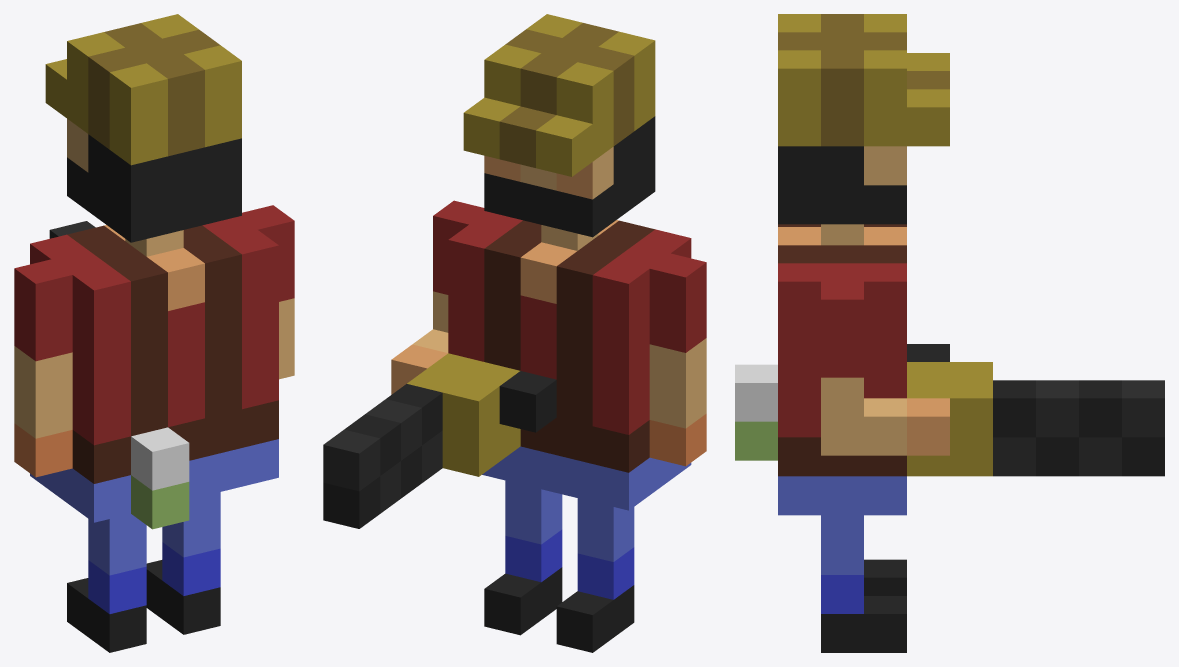
Rendered from lumberjack_3.fbx.
3 views of the same model, side by side, from view 1: azimuth 30°, elevation 25°; view 2: azimuth 150°, elevation 25°; view 3: azimuth 270°, elevation 25° (orthographic). The views are drawn at different scales.
Visible parts, largest first — view 1: Cube.078; view 2: Cube.078; view 3: Cube.078.
Part boxes in pixels (x1=…): Cube.078: x1=14, y1=14, x2=294, y2=652; Cube.078: x1=323, y1=14, x2=706, y2=652; Cube.078: x1=735, y1=14, x2=1164, y2=652.
Size of the model in its own units: 70 by 150 by 100.
